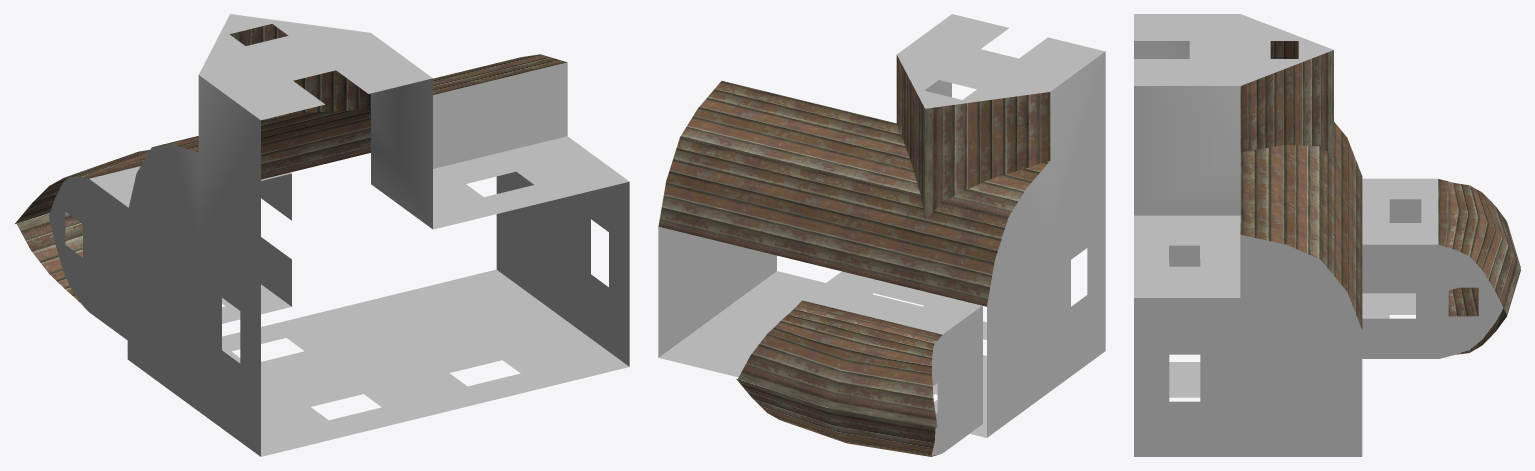
The model's file is Pirate_House_Exterior_Type02_F.fbx.
3 renders of one model, left to right at view 1: azimuth 30°, elevation 25°; view 2: azimuth 150°, elevation 25°; view 3: azimuth 270°, elevation 25°, orthographic. The views are drawn at different scales.
Parts seen in each view (by area): view 1: Pirate_House_Exterior_Type02_F; view 2: Pirate_House_Exterior_Type02_F; view 3: Pirate_House_Exterior_Type02_F.
Part boxes in pixels (x1,y1,x2,y2): Pirate_House_Exterior_Type02_F: (15,14,629,456); Pirate_House_Exterior_Type02_F: (658,14,1105,456); Pirate_House_Exterior_Type02_F: (1134,14,1520,456).
Size of the model in its own units: 14.95 by 12.09 by 14.69.
